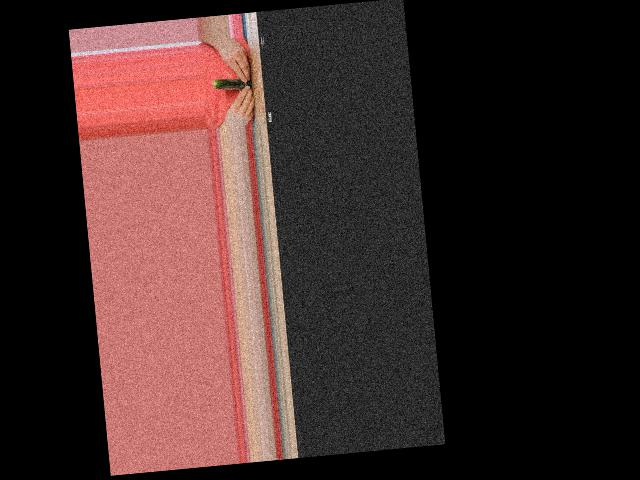cucumber: (212, 75, 252, 91)
